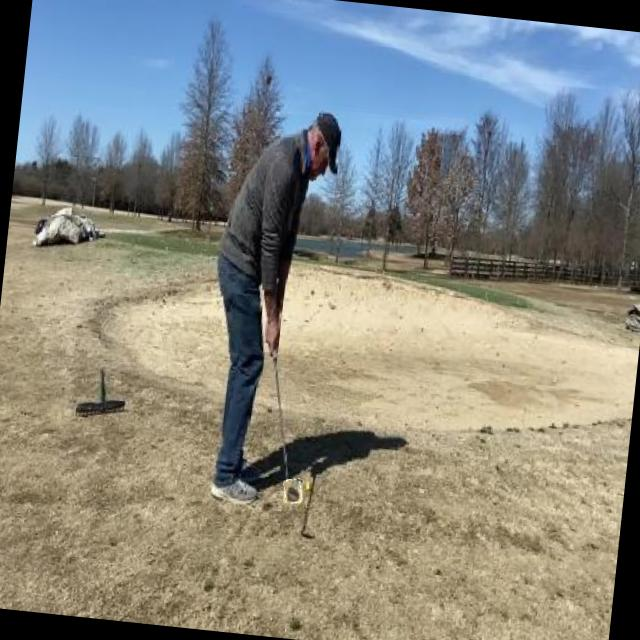club head: (282, 477, 304, 504)
